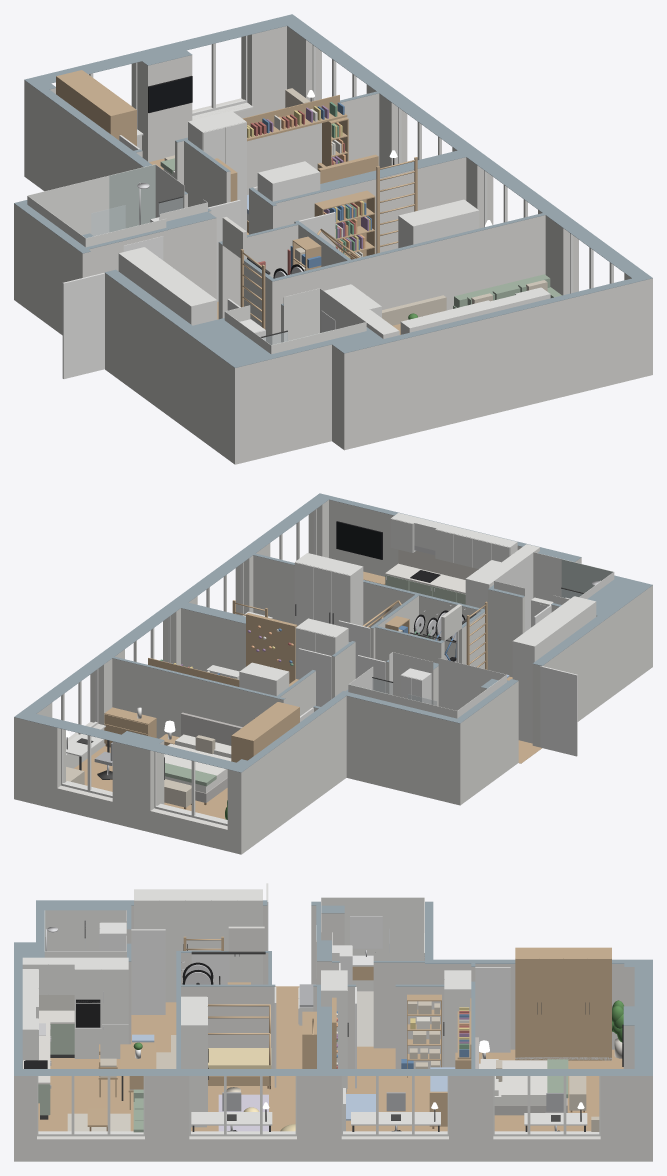
3 views of the same model, one above another, from view 1: azimuth 30°, elevation 25°; view 2: azimuth 150°, elevation 25°; view 3: azimuth 270°, elevation 25° (orthographic). The views are drawn at different scales.
Parts seen in each view (by area): view 1: wall, wallcap, white, oak, tile_wall, white_gloss, tile_accent, fabric_sand, glass, fabric_green, screen, book1 (+3 smaller); view 2: wall, white, wallcap, oak, tile_wall, white_gloss, oak_floor, linen, upholstery, fabric_sand, tile_accent, screen (+8 smaller); view 3: wall, white, oak, oak_floor, wallcap, white_gloss, tile_wall, fabric_sand, linen, fabric_grey, bed_yellow, black (+13 smaller).
Boxes of the visible parts, box(x1,y1,x2,y2) form: wall: box(14, 26, 652, 464); wallcap: box(14, 14, 652, 367); white: box(89, 35, 613, 338); oak: box(56, 70, 417, 334); tile_wall: box(27, 164, 366, 354); white_gloss: box(62, 135, 335, 378); tile_accent: box(109, 164, 331, 353); fabric_sand: box(164, 88, 547, 325); glass: box(91, 198, 287, 344); fabric_green: box(160, 158, 561, 308); screen: box(149, 77, 192, 112); book1: box(262, 102, 371, 268); wall: box(14, 500, 652, 854); white: box(61, 509, 596, 825); wallcap: box(14, 493, 652, 772); oak: box(104, 571, 487, 762); tile_wall: box(348, 552, 614, 718); white_gloss: box(298, 597, 577, 756); oak_floor: box(74, 676, 541, 819); linen: box(164, 734, 231, 792); upholstery: box(181, 712, 242, 802); fabric_sand: box(66, 629, 402, 807); tile_accent: box(349, 559, 613, 693); screen: box(336, 522, 381, 559); wall: box(14, 905, 652, 1161); white: box(22, 889, 611, 1136); oak: box(38, 936, 611, 1131); oak_floor: box(40, 986, 623, 1131); wallcap: box(14, 900, 652, 1075); white_gloss: box(99, 883, 510, 1088); tile_wall: box(44, 897, 424, 991); fabric_sand: box(99, 1001, 599, 1131); linen: box(479, 1059, 567, 1105); fabric_grey: box(222, 984, 563, 1112); bed_yellow: box(208, 1048, 295, 1131); black: box(24, 962, 623, 1068).
Size of the model in its own units: 10.16 by 2.71 by 14.2.
